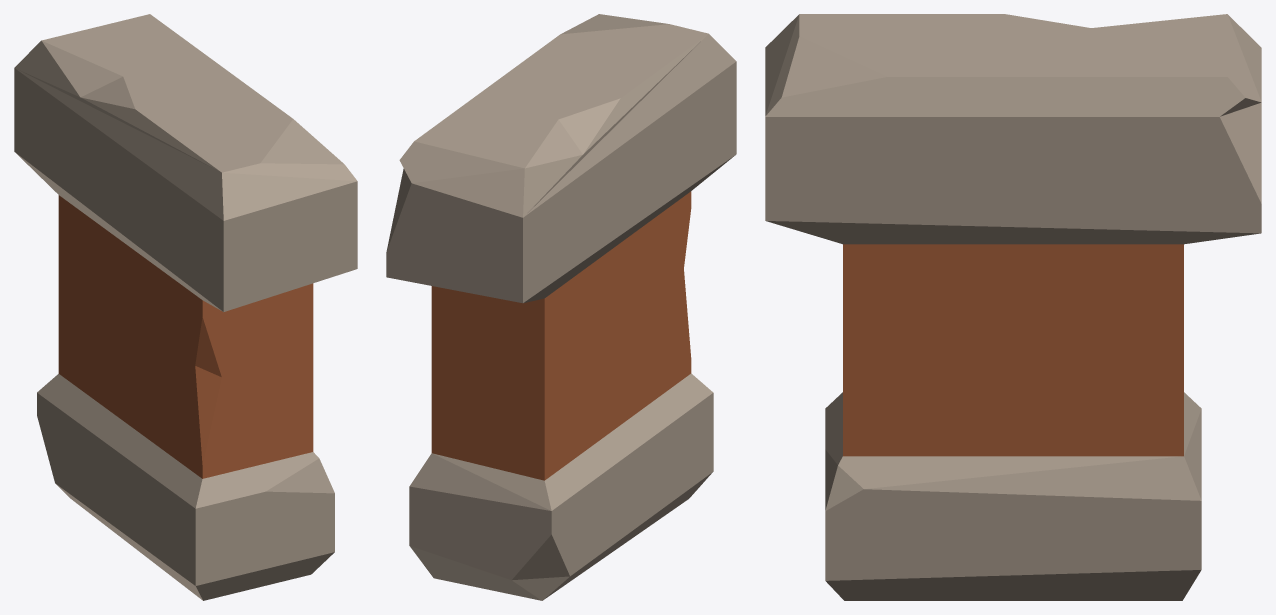
The model's file is SM_Bld_Temple_Balcony_Pillar_03.fbx.
3 views of the same model, side by side, from view 1: azimuth 30°, elevation 25°; view 2: azimuth 150°, elevation 25°; view 3: azimuth 270°, elevation 25° (orthographic). The views are drawn at different scales.
Visible parts, largest first — view 1: SM_Bld_Temple_Balcony_Pillar_03; view 2: SM_Bld_Temple_Balcony_Pillar_03; view 3: SM_Bld_Temple_Balcony_Pillar_03.
Part boxes in pixels (x1,y1,x2,y2): SM_Bld_Temple_Balcony_Pillar_03: (14, 14, 357, 600); SM_Bld_Temple_Balcony_Pillar_03: (386, 14, 736, 600); SM_Bld_Temple_Balcony_Pillar_03: (765, 14, 1261, 600).
Size of the model in its own units: 44.39 by 135 by 116.
